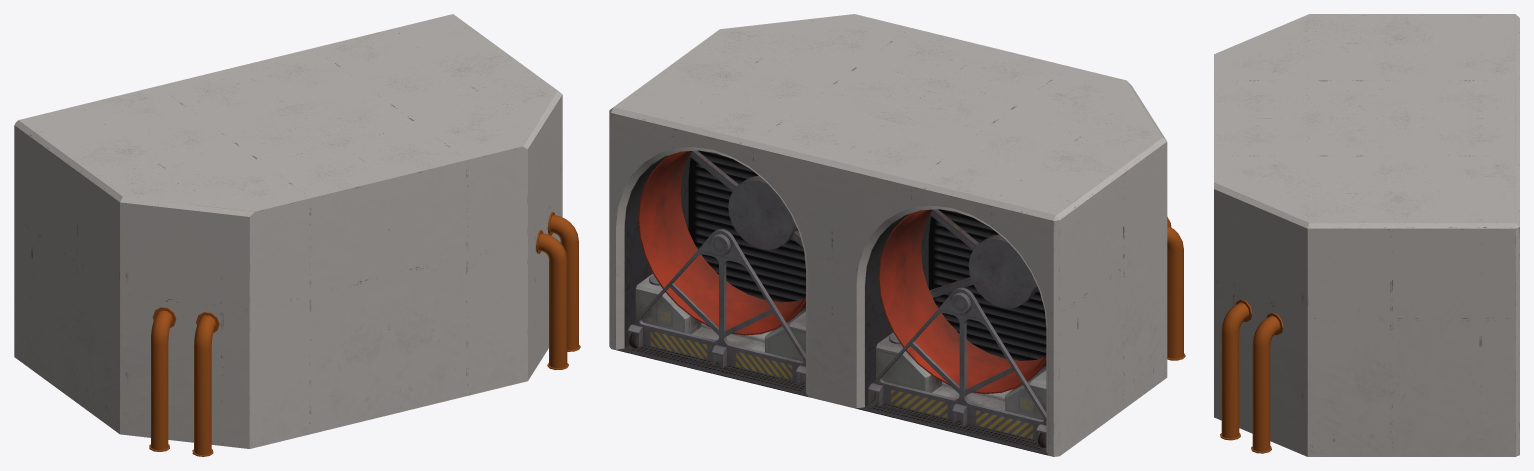
Rendered from DualFanVent.dae.
3 views of the same model, side by side, from view 1: azimuth 30°, elevation 25°; view 2: azimuth 150°, elevation 25°; view 3: azimuth 270°, elevation 25° (orthographic). The views are drawn at different scales.
Visible parts, largest first — view 1: DualFanVent; view 2: DualFanVent; view 3: DualFanVent.
Boxes of the visible parts, bbox=[...] form: DualFanVent: bbox=[14, 14, 580, 456]; DualFanVent: bbox=[609, 14, 1185, 456]; DualFanVent: bbox=[1214, 14, 1519, 456].
Size of the model in its own units: 22.48 by 13.66 by 11.45.
